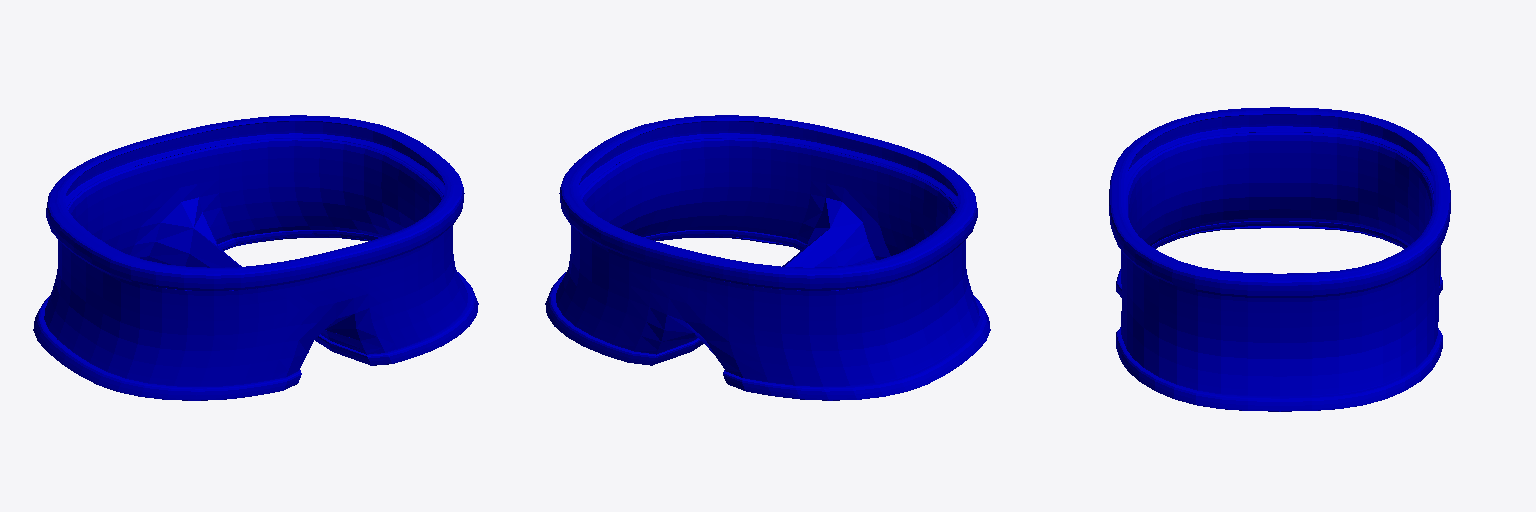
The model's file is PantalonesCortos.obj.
3 renders of one model, left to right at view 1: azimuth 30°, elevation 25°; view 2: azimuth 150°, elevation 25°; view 3: azimuth 270°, elevation 25°, orthographic.
Parts seen in each view (by area): view 1: PantalonesCortos; view 2: PantalonesCortos; view 3: PantalonesCortos.
Part boxes in pixels (x1,y1,x2,y2): PantalonesCortos: (33,115,478,400); PantalonesCortos: (545,115,990,400); PantalonesCortos: (1109,107,1450,411).
Bounding box in the file's own units: 24.35 × 7.54 × 18.6.